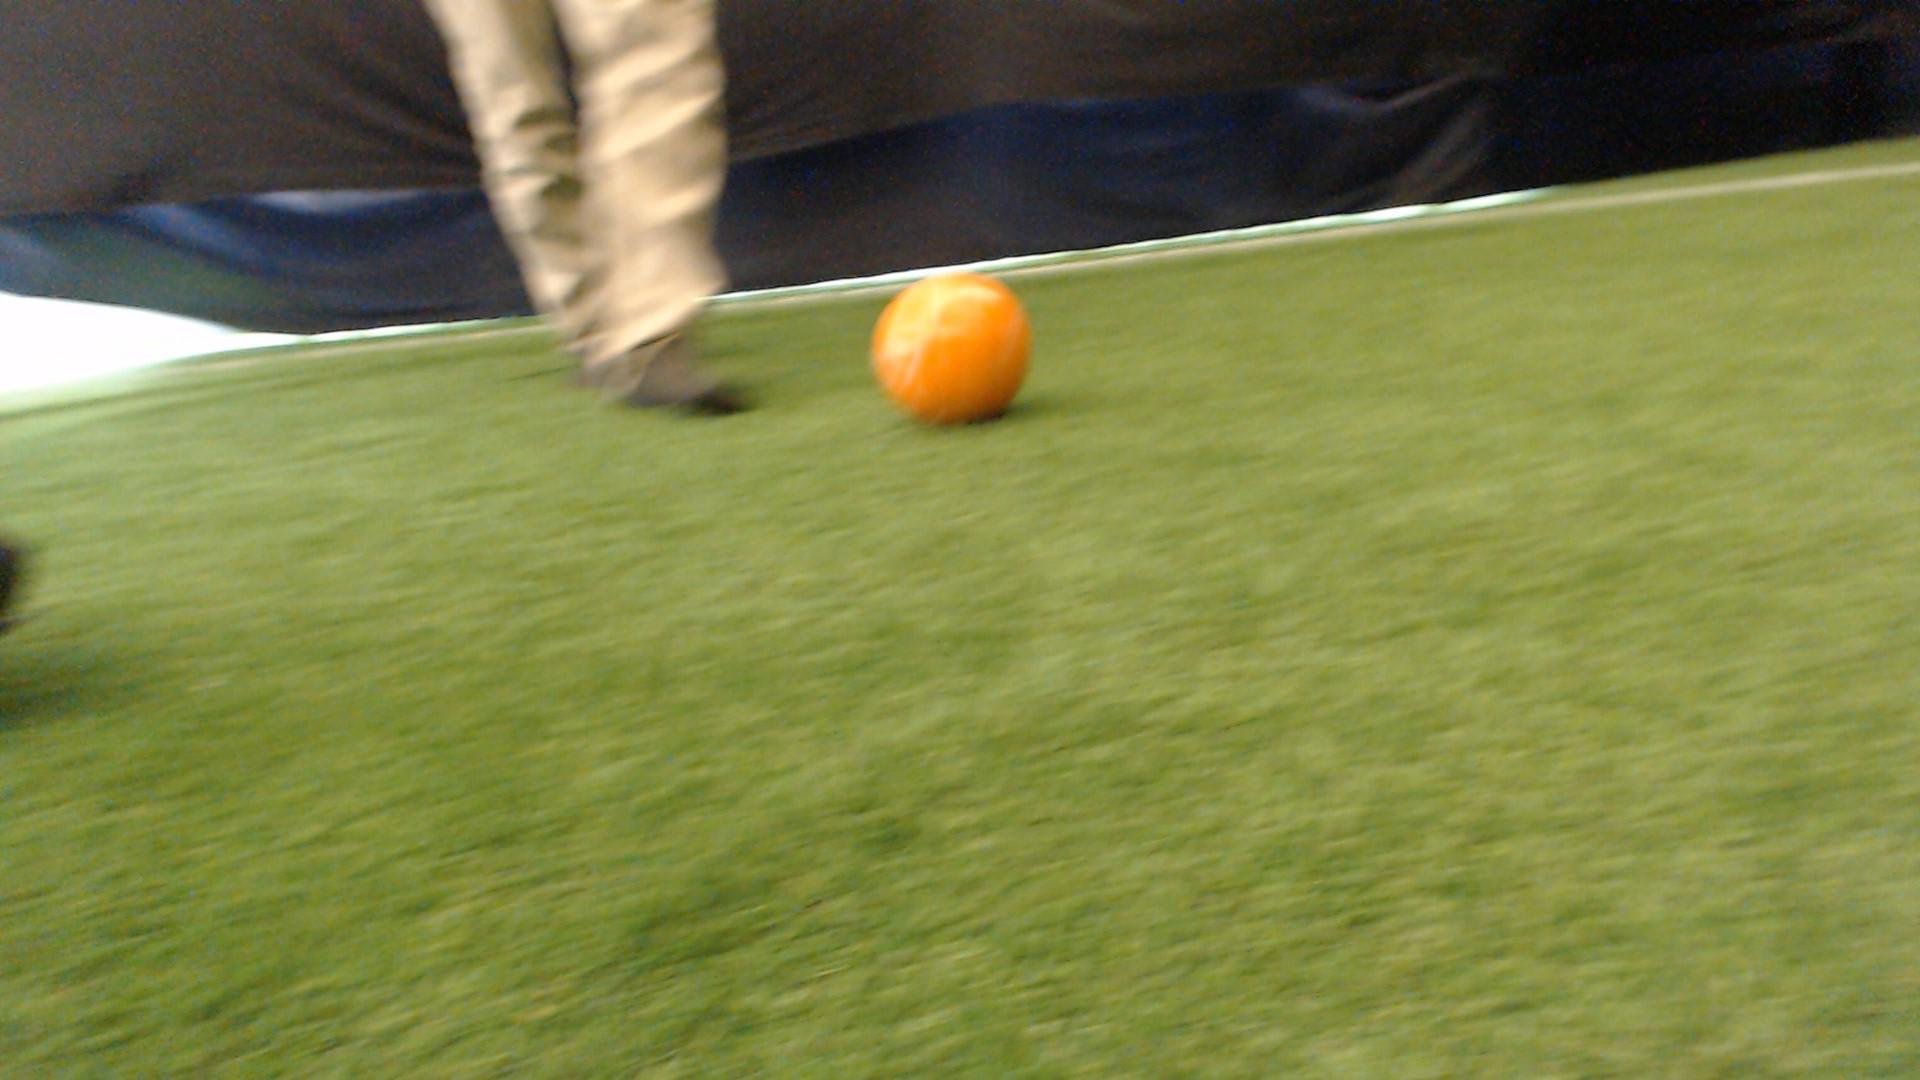bola: (857, 265, 1050, 429)
